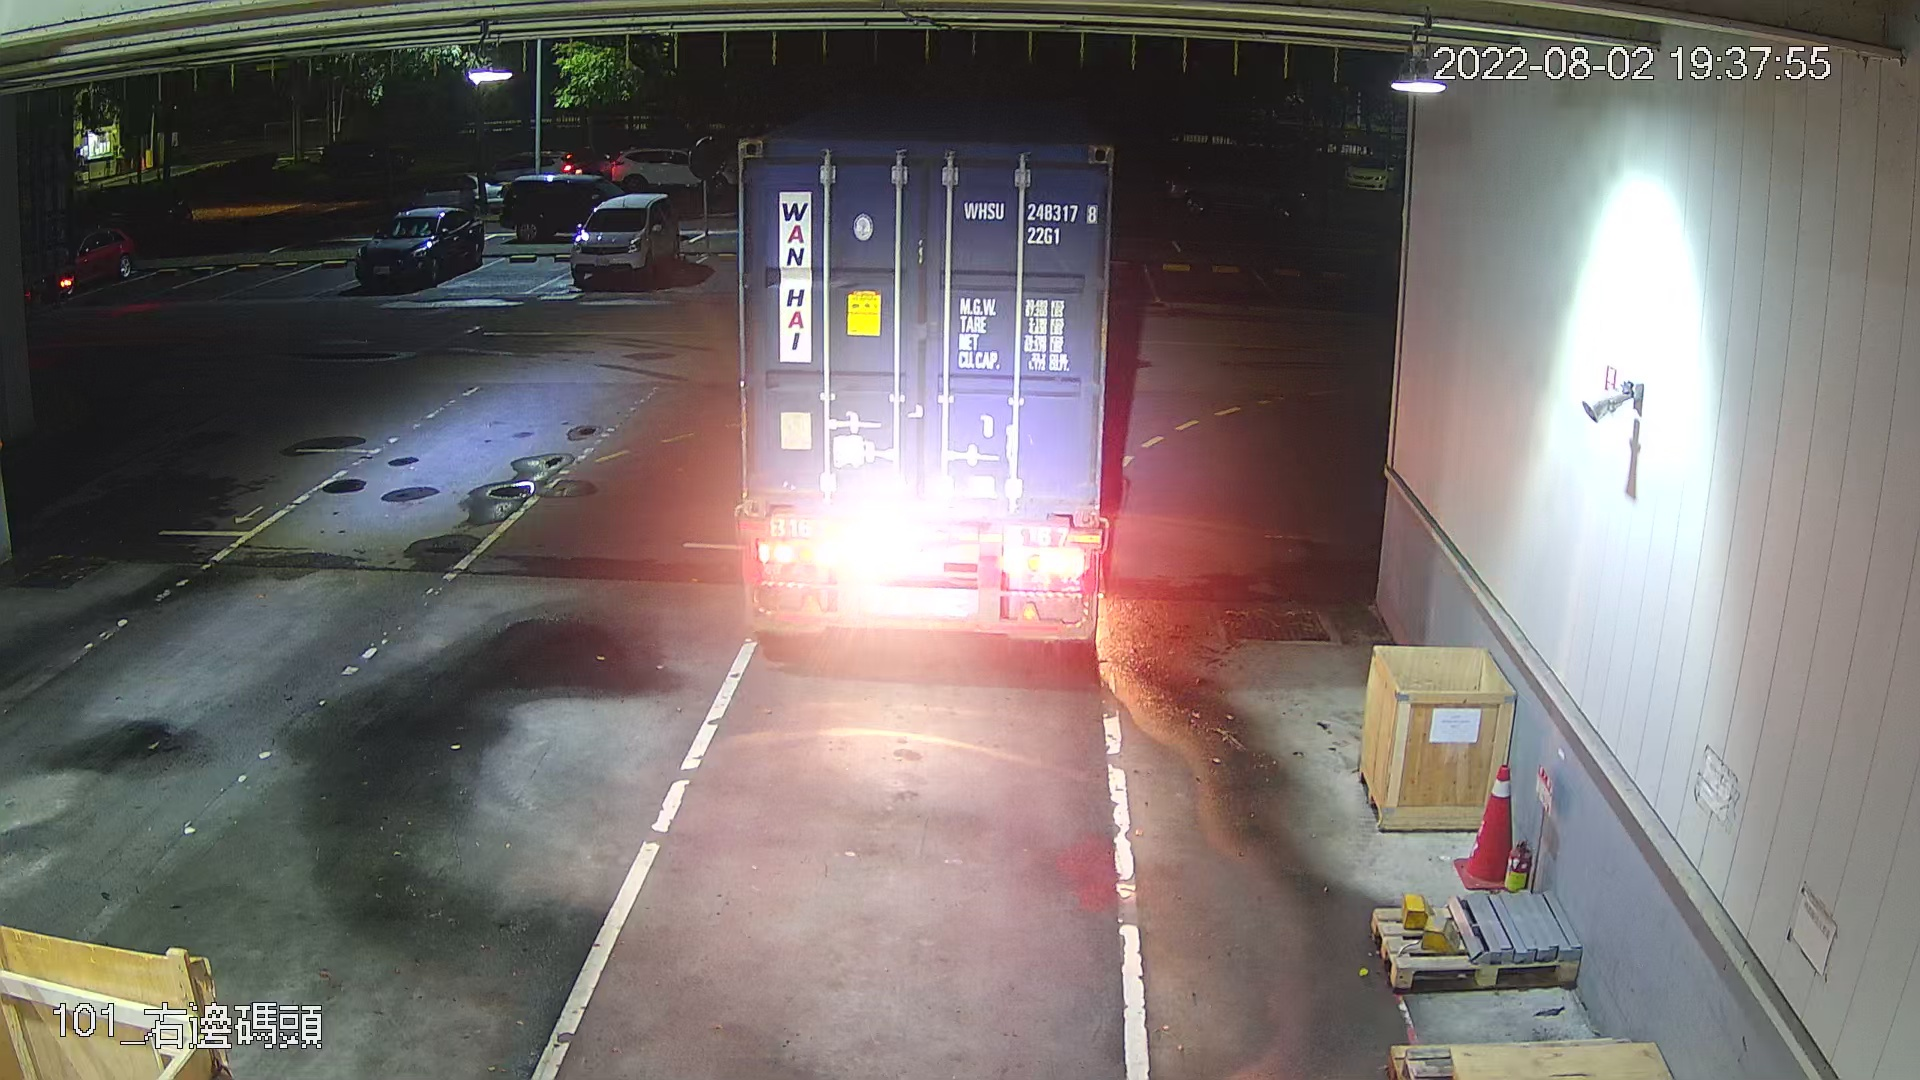container: (957, 193, 1104, 252)
